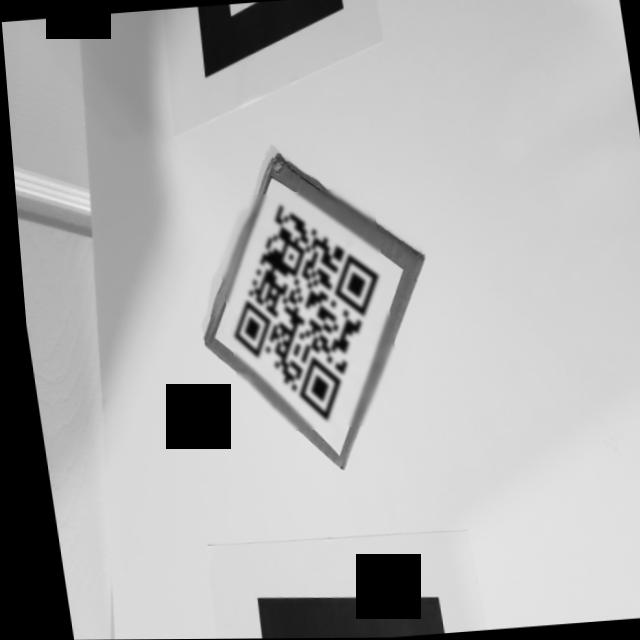QR_CODE: (205, 186, 400, 435)
